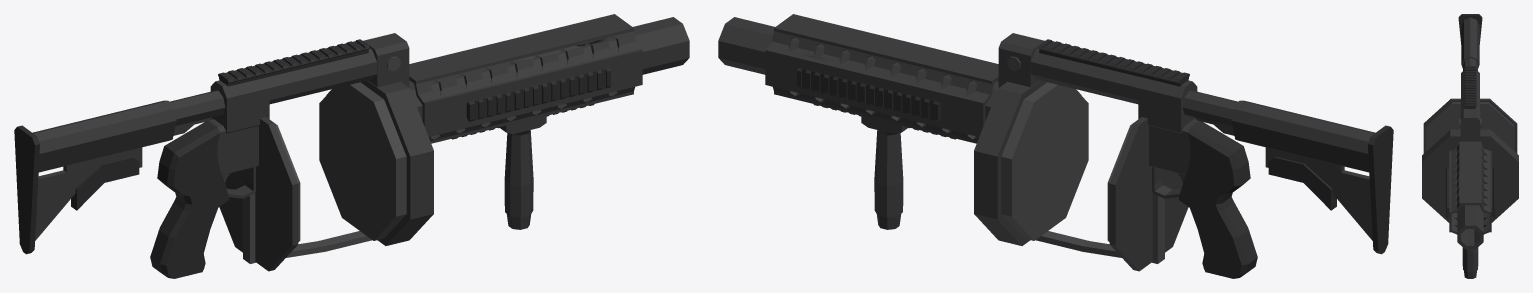
The model's file is HeavyWeapon1_03.fbx.
3 renders of one model, left to right at view 1: azimuth 30°, elevation 25°; view 2: azimuth 150°, elevation 25°; view 3: azimuth 270°, elevation 25°, orthographic. The views are drawn at different scales.
Visible parts, largest first — view 1: HeavyWeapon1_03; view 2: HeavyWeapon1_03; view 3: HeavyWeapon1_03.
Boxes of the visible parts, <box> form: HeavyWeapon1_03: <box>14,14,689,278</box>; HeavyWeapon1_03: <box>718,14,1393,278</box>; HeavyWeapon1_03: <box>1422,14,1518,278</box>.
Size of the model in its own units: 0.8535 by 0.2756 by 0.1899.
